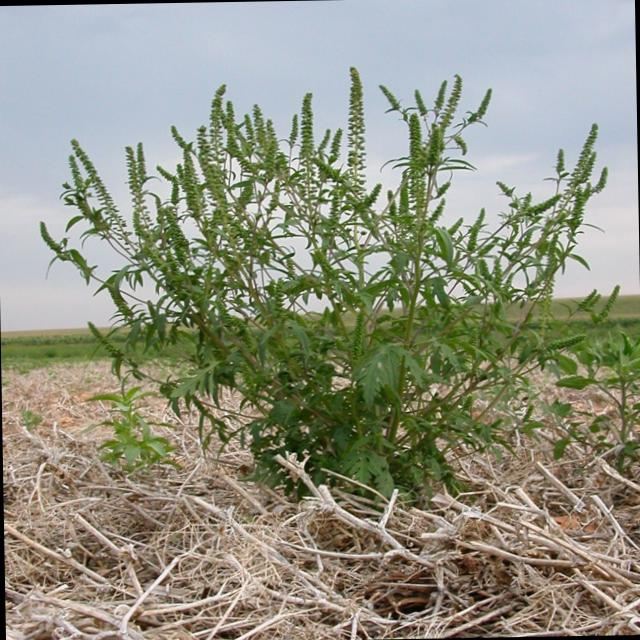ambrosia: (33, 42, 616, 510)
